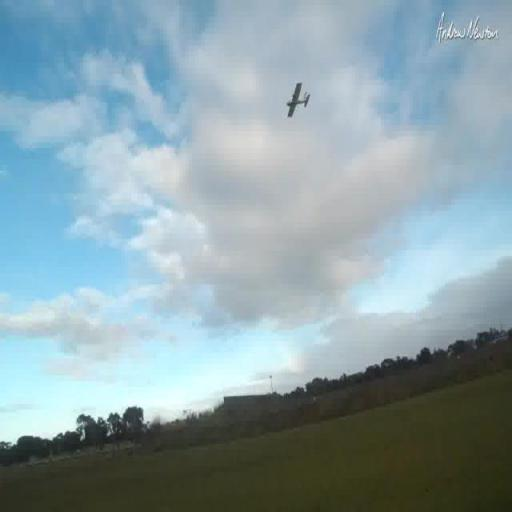uav: (276, 74, 316, 134)
